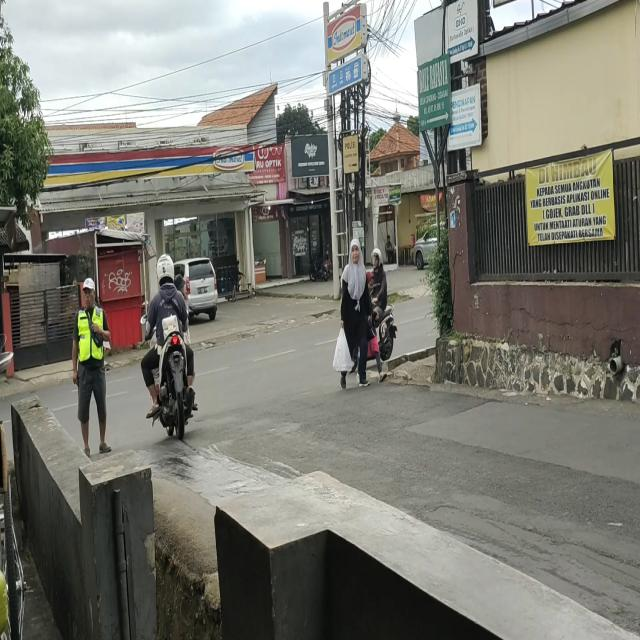helmet: (155, 256, 174, 286), (372, 249, 382, 266)
